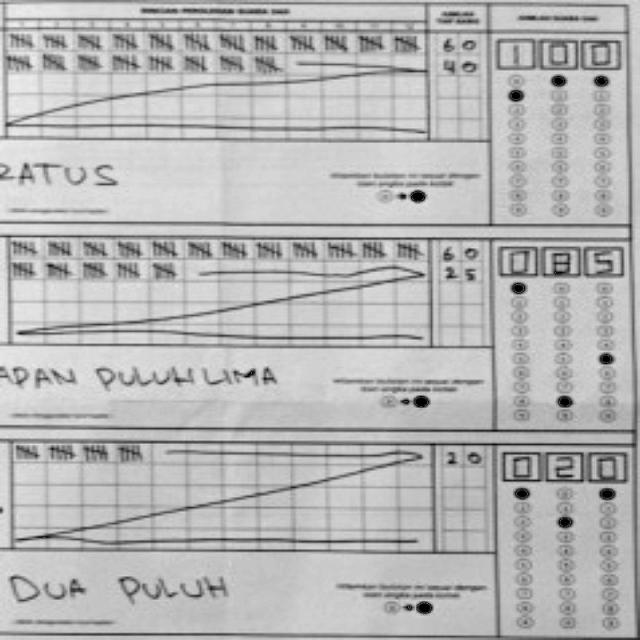Suara: (492, 240, 630, 283), (493, 32, 624, 74), (498, 444, 626, 486)
